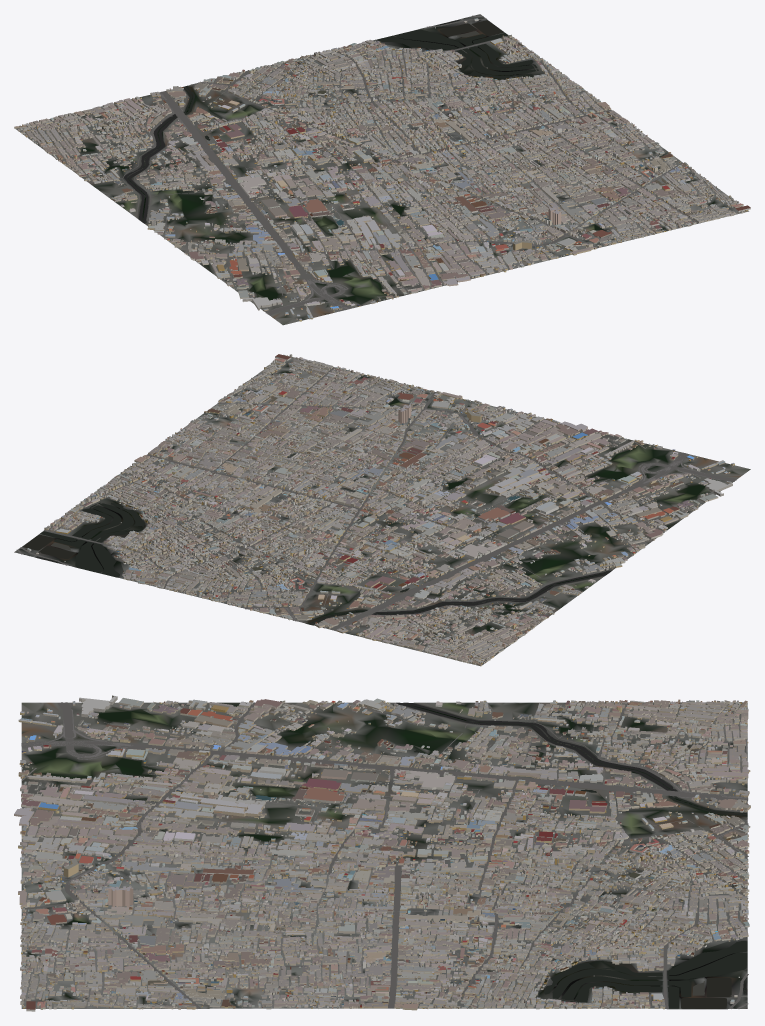
3 views of the same model, one above another, from view 1: azimuth 30°, elevation 25°; view 2: azimuth 150°, elevation 25°; view 3: azimuth 270°, elevation 25° (orthographic). The views are drawn at different scales.
Parts seen in each view (by area): view 1: buildings, ground, roads, water; view 2: buildings, ground, roads, water; view 3: buildings, ground, roads, water.
Part boxes in pixels (<box>): buildings: <box>14,18,750,321</box>; ground: <box>14,14,748,325</box>; roads: <box>20,15,740,315</box>; water: <box>124,19,538,223</box>; buildings: <box>27,354,734,666</box>; ground: <box>14,355,750,665</box>; roads: <box>17,358,736,664</box>; water: <box>23,502,611,625</box>; buildings: <box>14,695,750,1011</box>; ground: <box>21,702,747,1009</box>; roads: <box>21,702,748,1008</box>; water: <box>395,702,747,1008</box>.
Bounding box in the file's own units: 2862 × 76.33 × 2843.
